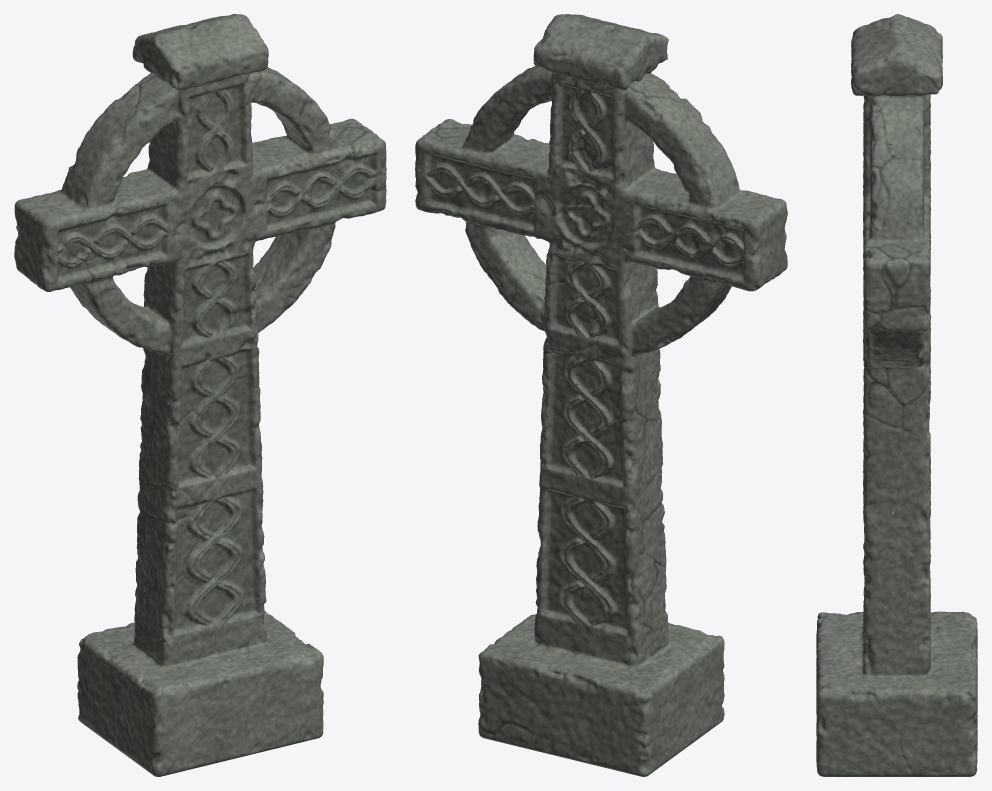
The model's file is celtic-cross.glb.
The picture shows the model from 3 angles, left to right: view 1: azimuth 30°, elevation 25°; view 2: azimuth 150°, elevation 25°; view 3: azimuth 270°, elevation 25°; orthographic projection.
Visible parts, largest first — view 1: celtic-cross; view 2: celtic-cross; view 3: celtic-cross.
Part boxes in pixels (<box>): celtic-cross: <box>14,14,386,776</box>; celtic-cross: <box>415,14,787,776</box>; celtic-cross: <box>816,14,977,776</box>.
Bounding box in the file's own units: 3.31 × 6.48 × 1.35.
1 material, 1 textured.
